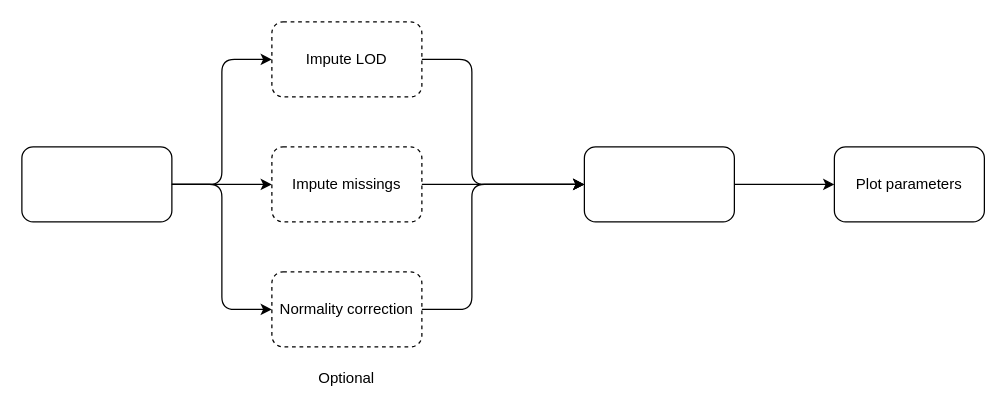
This 1006x419 diagram has some shape labels left out. Each missing label, with the centre of its shape:
"ExWAS" goes at [658,184].
"Load data" goes at [96,184].
